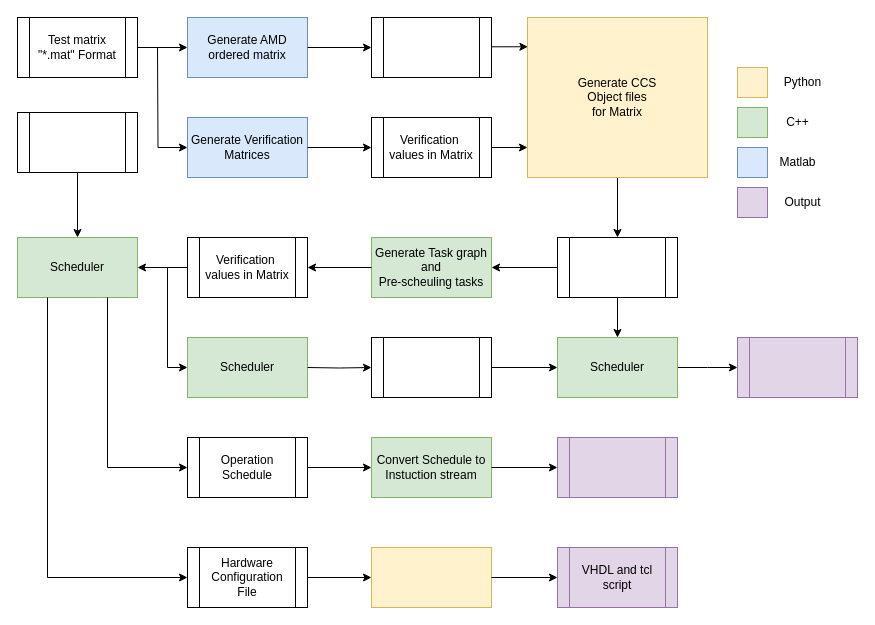
Image size: 875x625. Some labels were removed from this diagram. The centre of each missing label's shape, as x and y in pixels:
"CCS Object Files" goes at point (617, 267).
"Comparision results" goes at point (797, 367).
"Factors of the test Matrix" goes at point (431, 367).
"Generate HDL and setup files" goes at point (431, 577).
"Hardware Configuration Structure" goes at point (77, 142).
"Intialization files" goes at point (617, 467).
"Test Matrix in bin format" goes at point (431, 47).
